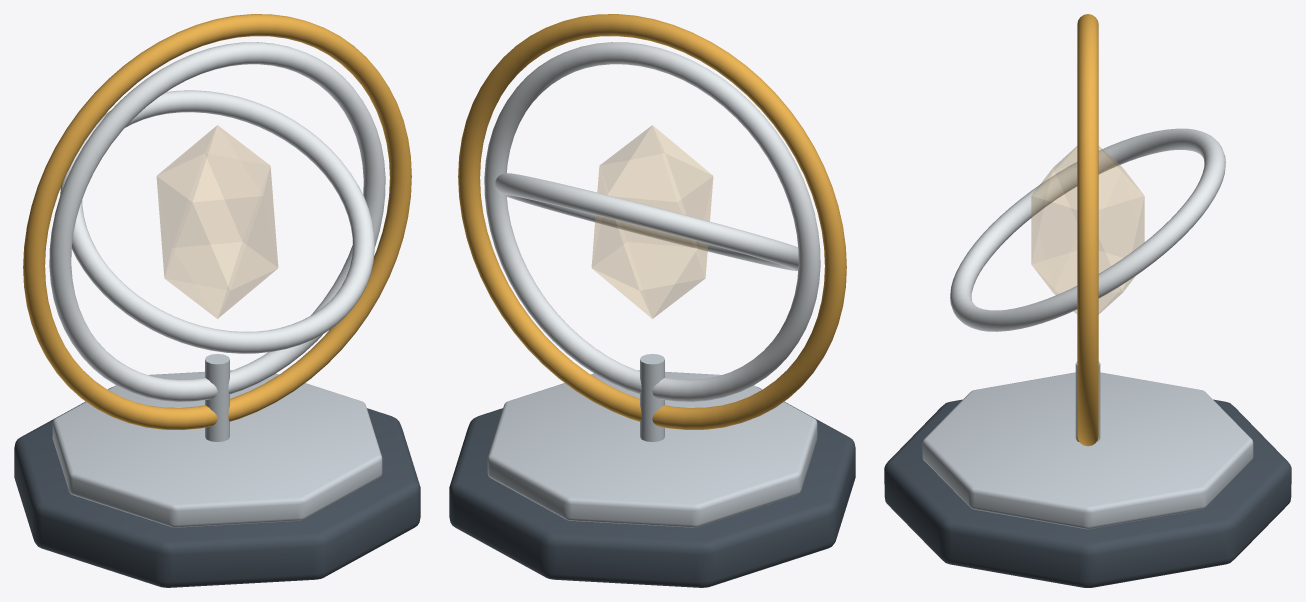
The model's file is mastery-relic.glb.
3 views of the same model, side by side, from view 1: azimuth 30°, elevation 25°; view 2: azimuth 150°, elevation 25°; view 3: azimuth 270°, elevation 25° (orthographic). The views are drawn at different scales.
Visible parts, largest first — view 1: titan.relic.base-top, titan.relic.base, titan.relic.ring.0, titan.relic.ring.1, titan.relic.crystal, titan.relic.ring.2, titan.relic.post; view 2: titan.relic.base-top, titan.relic.base, titan.relic.ring.0, titan.relic.ring.1, titan.relic.crystal, titan.relic.ring.2, titan.relic.post; view 3: titan.relic.base-top, titan.relic.base, titan.relic.ring.2, titan.relic.crystal, titan.relic.ring.0.
Part boxes in pixels (left/top/right/bottom): titan.relic.base-top: left=52, top=370, right=382, bottom=527; titan.relic.base: left=14, top=387, right=420, bottom=587; titan.relic.ring.0: left=23, top=14, right=411, bottom=429; titan.relic.ring.1: left=49, top=42, right=385, bottom=401; titan.relic.crystal: left=157, top=125, right=277, bottom=318; titan.relic.ring.2: left=60, top=90, right=374, bottom=353; titan.relic.post: left=205, top=354, right=229, bottom=441; titan.relic.base-top: left=487, top=370, right=817, bottom=527; titan.relic.base: left=449, top=387, right=855, bottom=587; titan.relic.ring.0: left=458, top=14, right=846, bottom=429; titan.relic.ring.1: left=484, top=42, right=820, bottom=401; titan.relic.crystal: left=592, top=125, right=712, bottom=318; titan.relic.ring.2: left=495, top=173, right=798, bottom=270; titan.relic.post: left=640, top=354, right=664, bottom=441; titan.relic.base-top: left=922, top=372, right=1253, bottom=529; titan.relic.base: left=884, top=399, right=1291, bottom=587; titan.relic.ring.2: left=950, top=128, right=1225, bottom=331; titan.relic.crystal: left=1031, top=146, right=1144, bottom=313; titan.relic.ring.0: left=1077, top=14, right=1098, bottom=446.
Size of the model in its own units: 0.884 by 1.06 by 0.8326.
